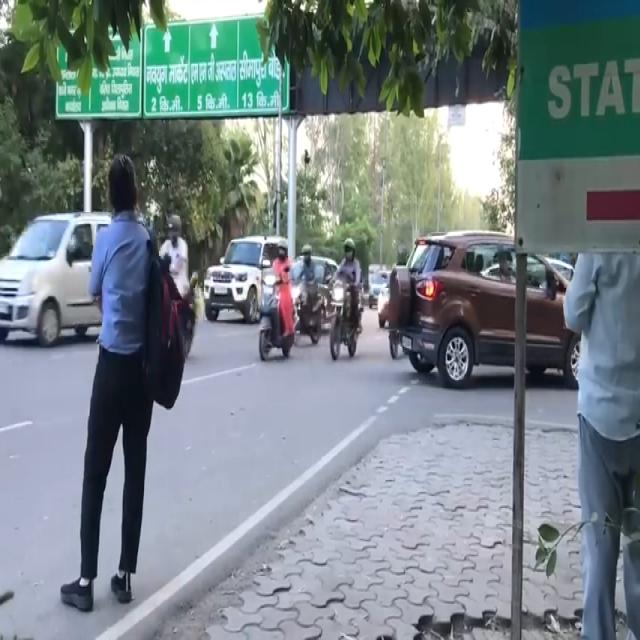MOTORCYCLE: (330, 274, 366, 360), (259, 282, 296, 358)
SUV: (395, 227, 594, 400)
